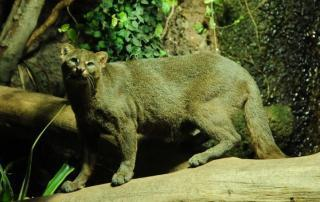Jaguarundi: (54, 41, 292, 190)
